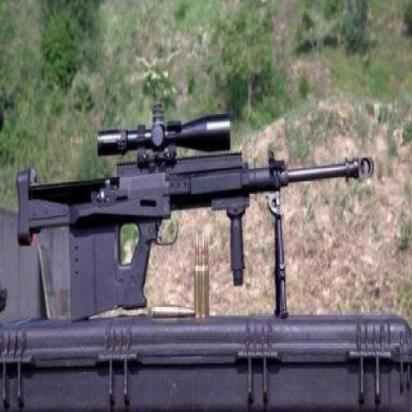Gun: (19, 117, 373, 316)
